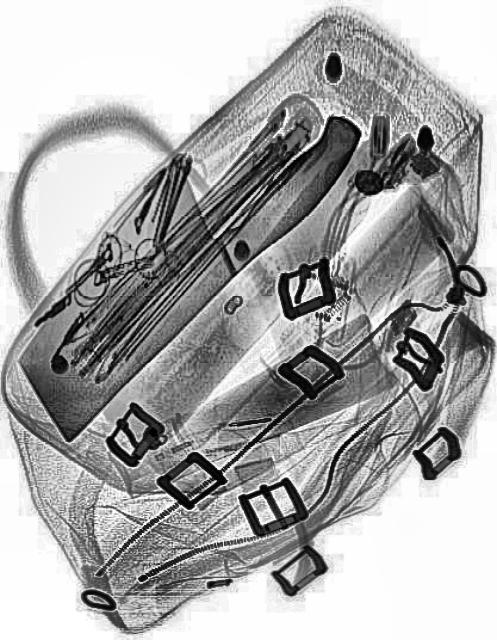Knife: (0, 46, 372, 450)
